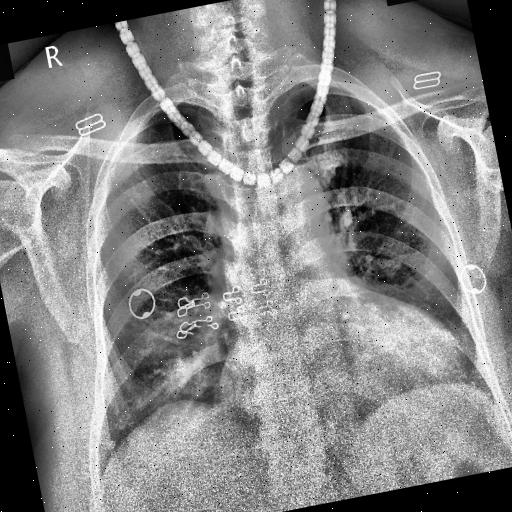0- Aortic enlargement: (267, 160, 338, 248), (258, 160, 330, 236), (264, 162, 330, 236)
3- Cardiomegaly: (211, 303, 470, 423), (213, 314, 468, 432), (206, 316, 464, 422)
9- Other lesion: (106, 441, 116, 450)
